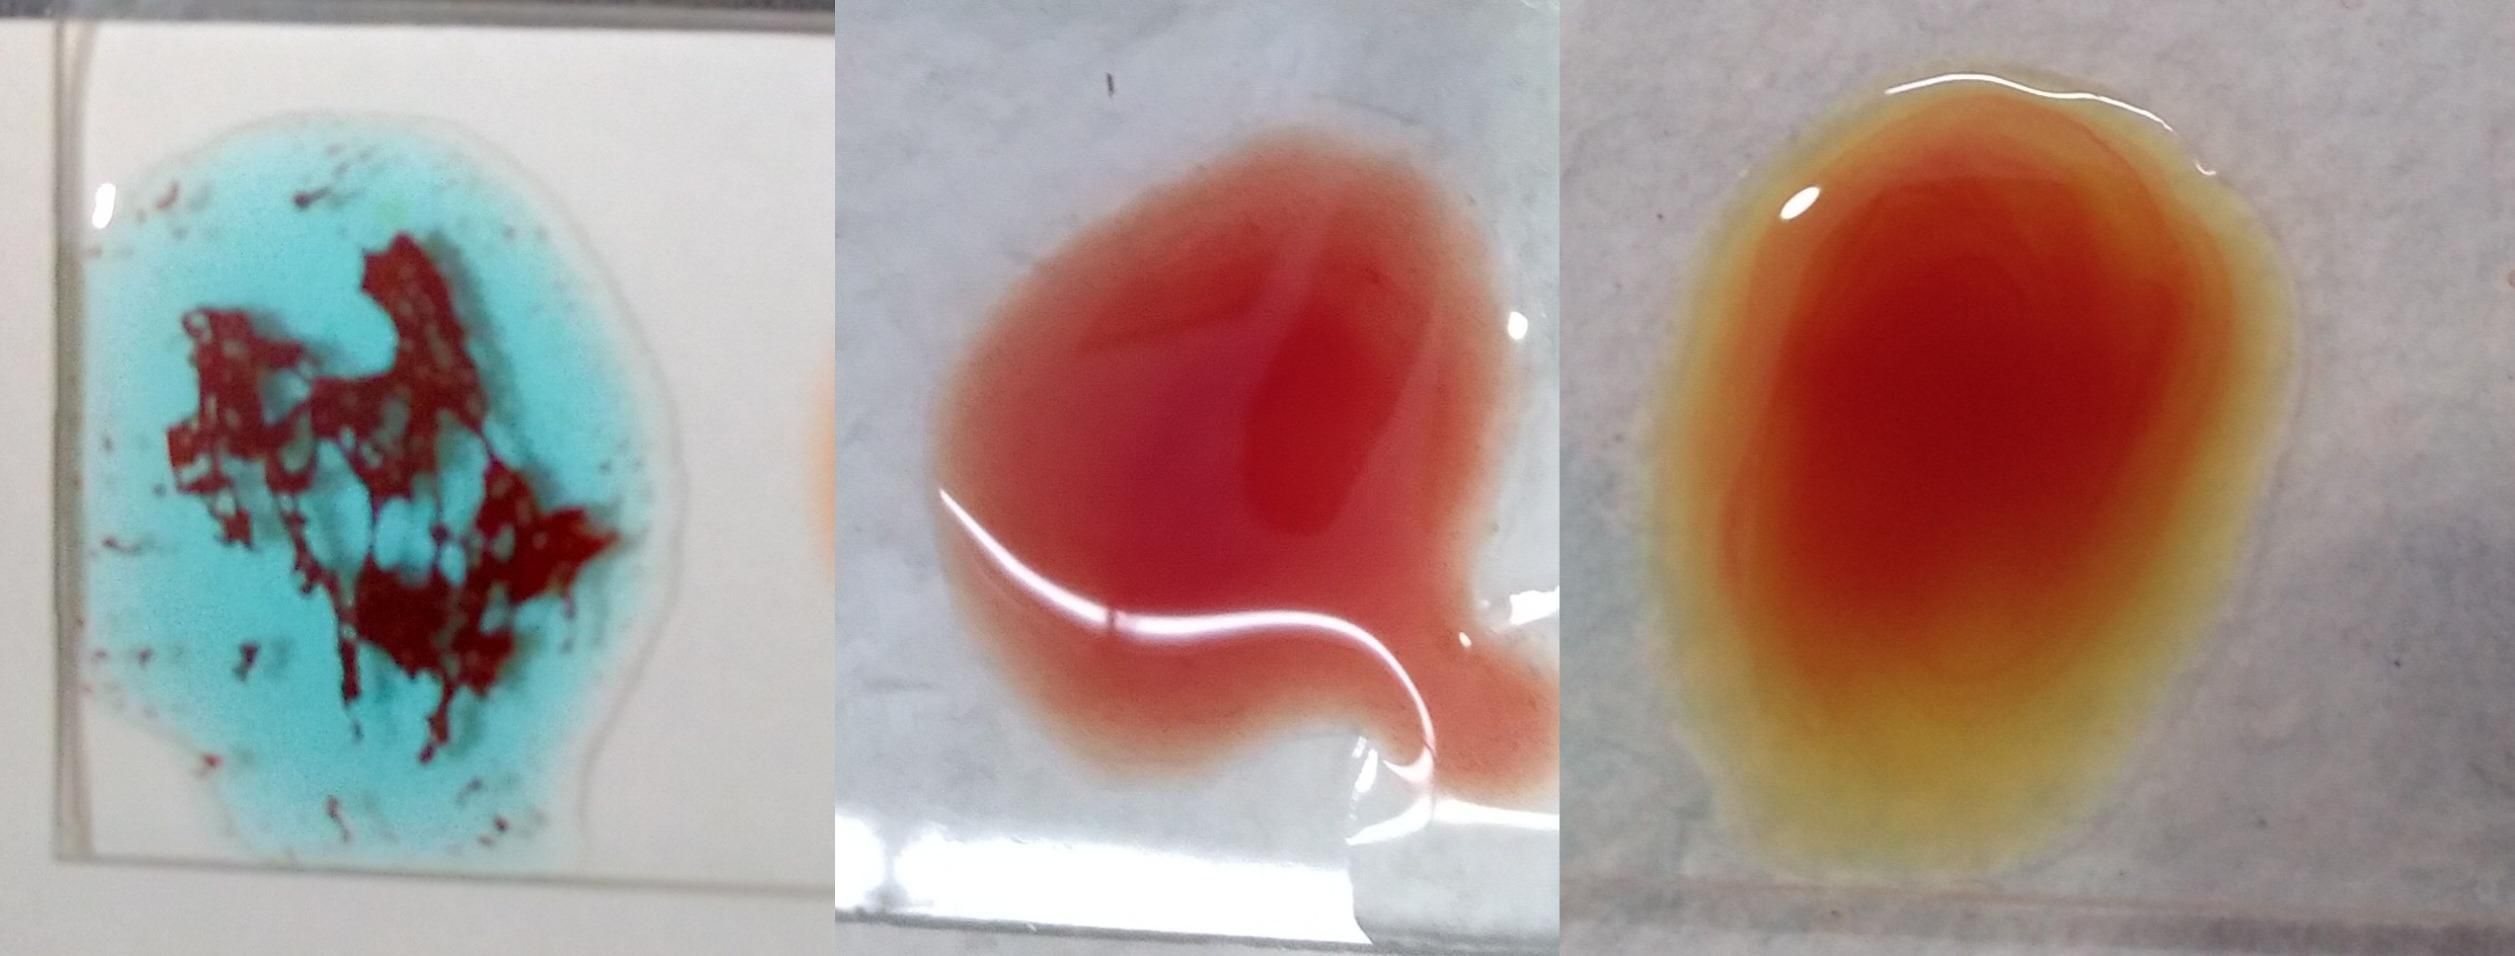A: (88, 148, 629, 813)
